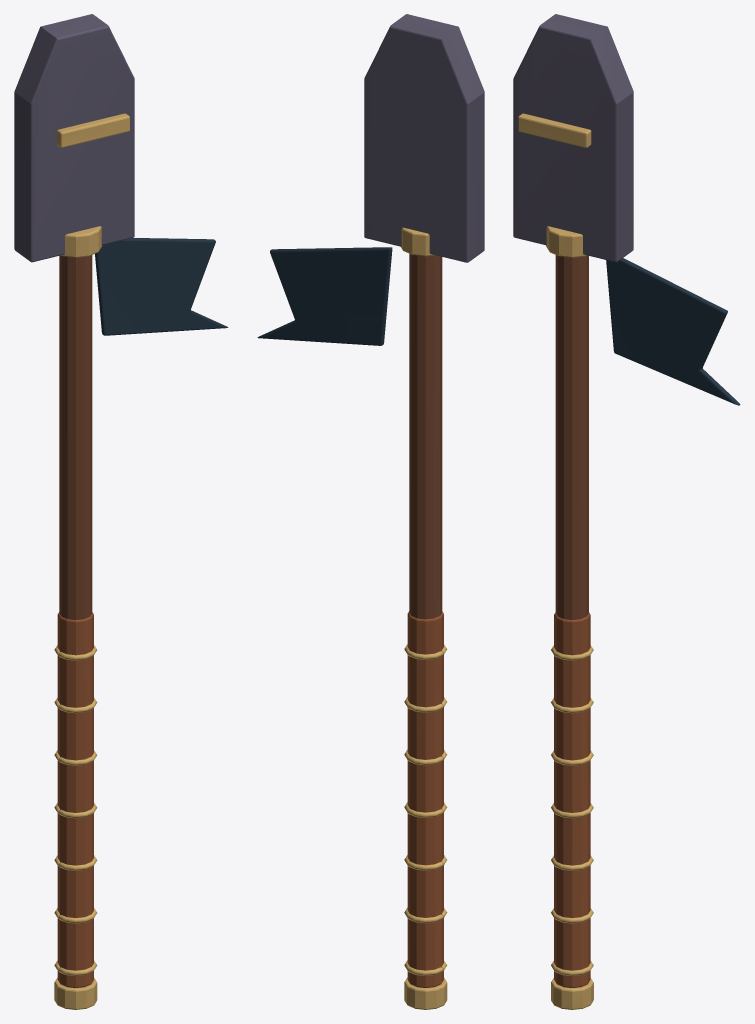
The model's file is item_043.glb.
The picture shows the model from 3 angles, left to right: view 1: azimuth 30°, elevation 25°; view 2: azimuth 150°, elevation 25°; view 3: azimuth 330°, elevation 25°; orthographic projection.
Visible parts, largest first — view 1: Item_043_tomb_banner; view 2: Item_043_tomb_banner; view 3: Item_043_tomb_banner.
Boxes of the visible parts, x1,y1,x2,y2 form: Item_043_tomb_banner: (14,14,228,1009); Item_043_tomb_banner: (257,14,484,1009); Item_043_tomb_banner: (513,14,740,1009).
Size of the model in its own units: 0.4881 by 2.15 by 0.1328.
